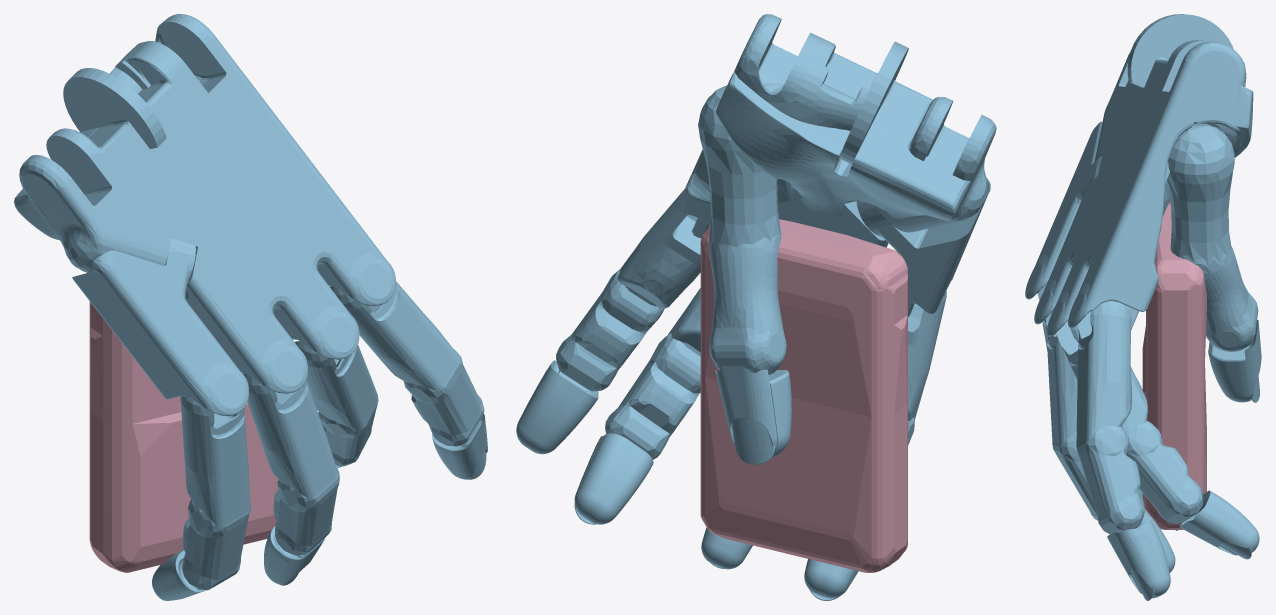
3 views of the same model, side by side, from view 1: azimuth 30°, elevation 25°; view 2: azimuth 150°, elevation 25°; view 3: azimuth 270°, elevation 25° (orthographic). The views are drawn at different scales.
Parts seen in each view (by area): view 1: hand_isaac_q, world; view 2: hand_isaac_q, world; view 3: hand_isaac_q, world.
Boxes of the visible parts, x1=… form: hand_isaac_q: x1=14, y1=14, x2=487, y2=600; world: x1=89, y1=301, x2=278, y2=572; hand_isaac_q: x1=516, y1=14, x2=996, y2=600; world: x1=700, y1=219, x2=907, y2=572; hand_isaac_q: x1=1025, y1=14, x2=1261, y2=600; world: x1=1142, y1=202, x2=1206, y2=529.
Bounding box in the file's own units: 0.1659 × 0.1967 × 0.0834.
